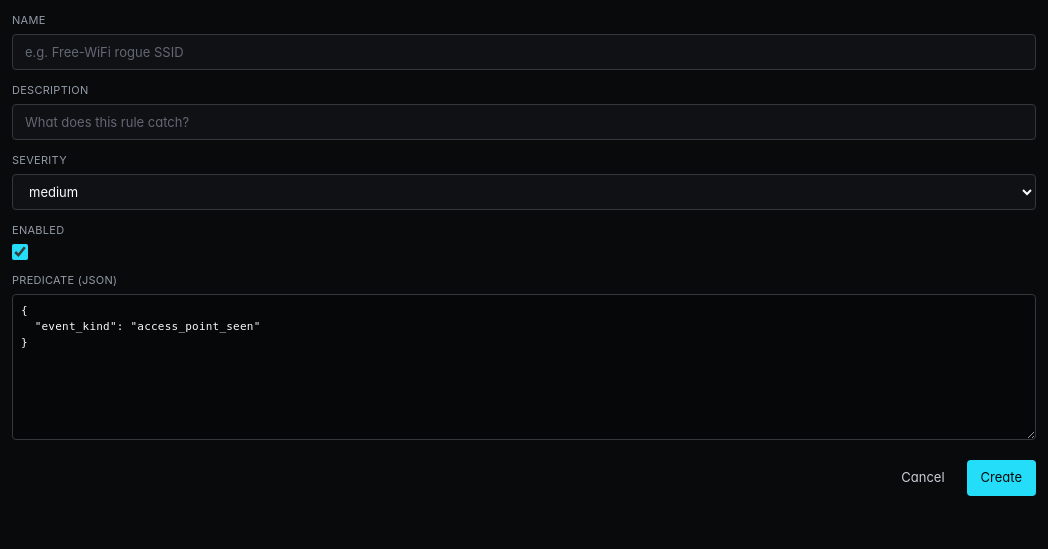
Test: AlertRuleForm › requires a name
The width and height of the screenshot is (1048, 549).
Step 1. Click the button "Create" → (1001, 478), box x1=967 y1=460 x2=1036 y2=496
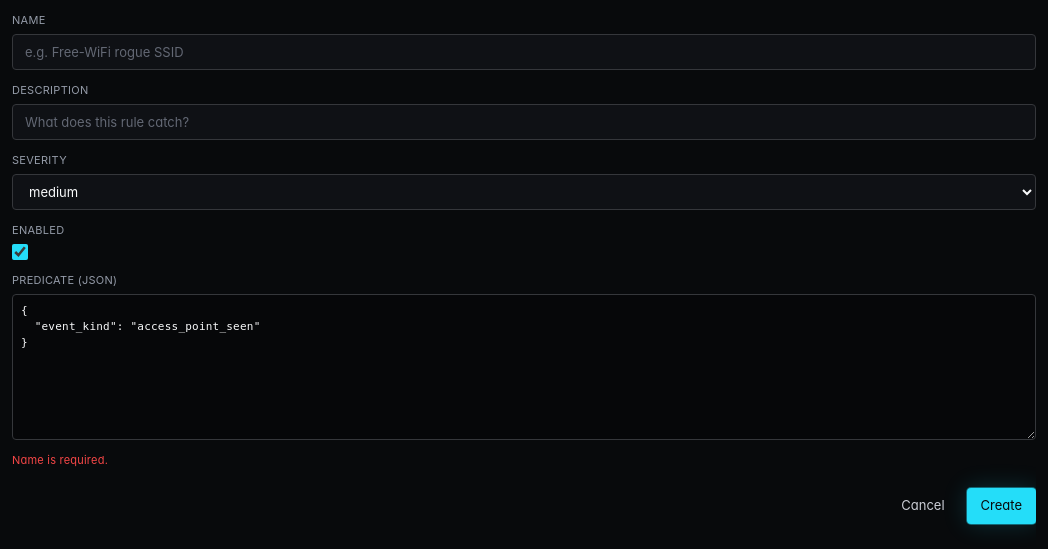
Expected: the text "Name is required." is shown, x1=12 y1=453 x2=108 y2=467
